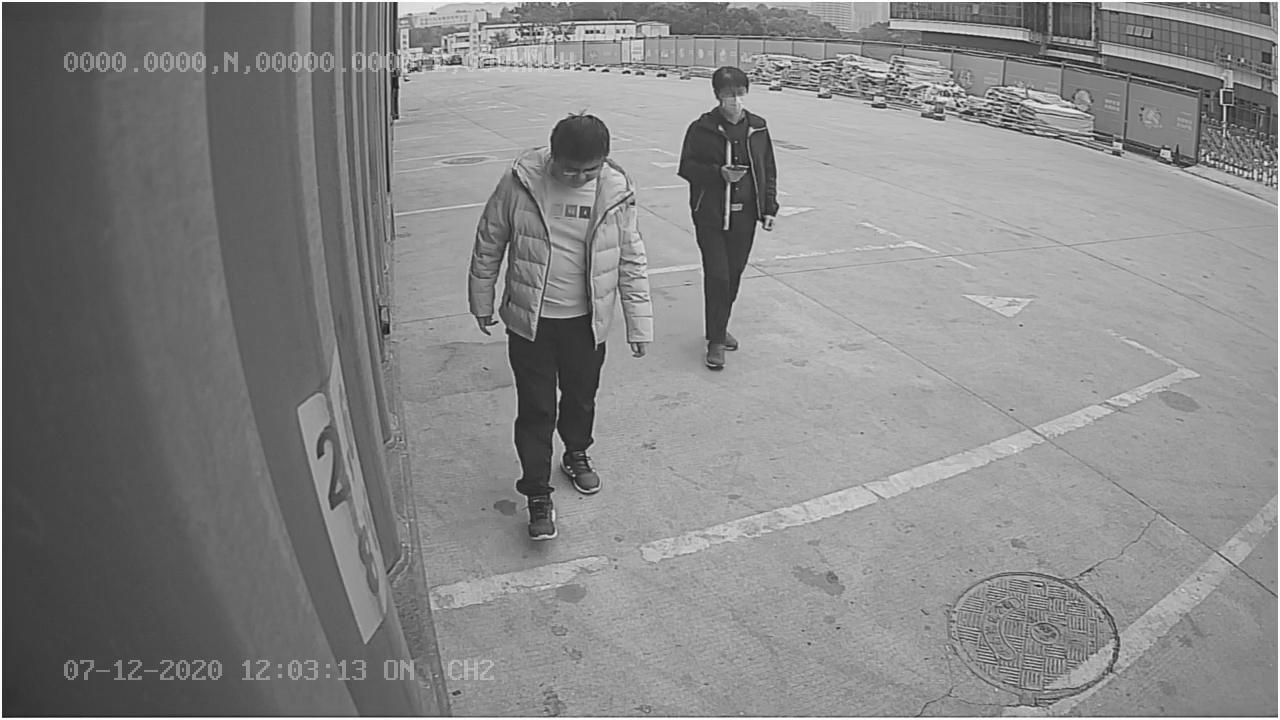person: (461, 104, 653, 544), (680, 67, 777, 369)
